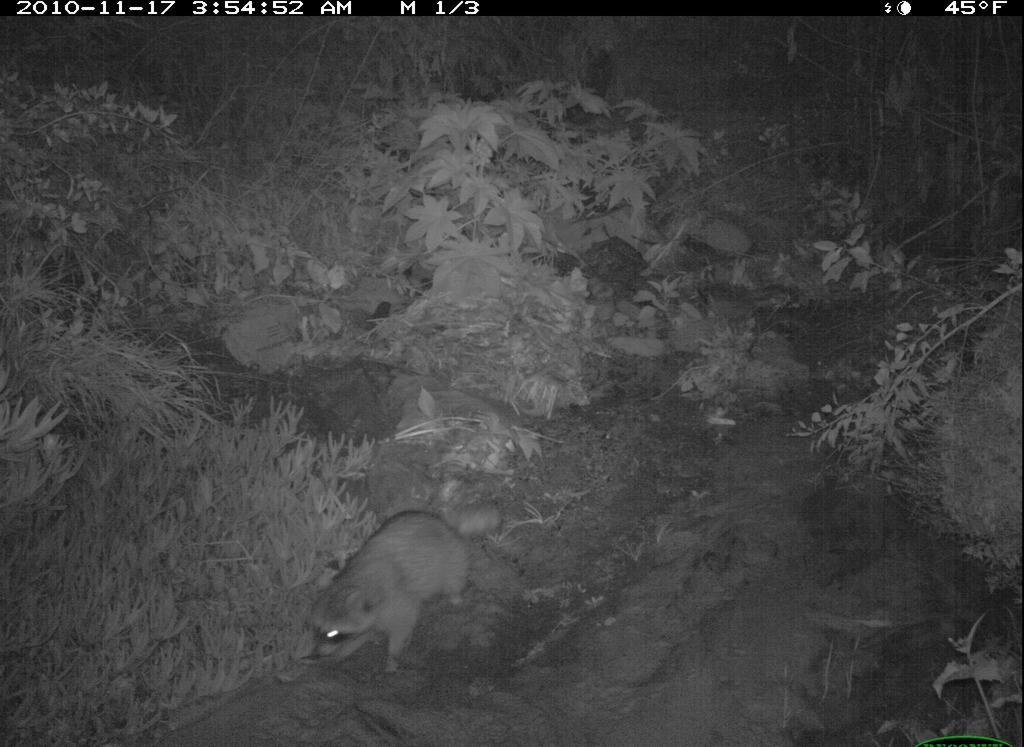raccoon: (299, 495, 509, 684)
